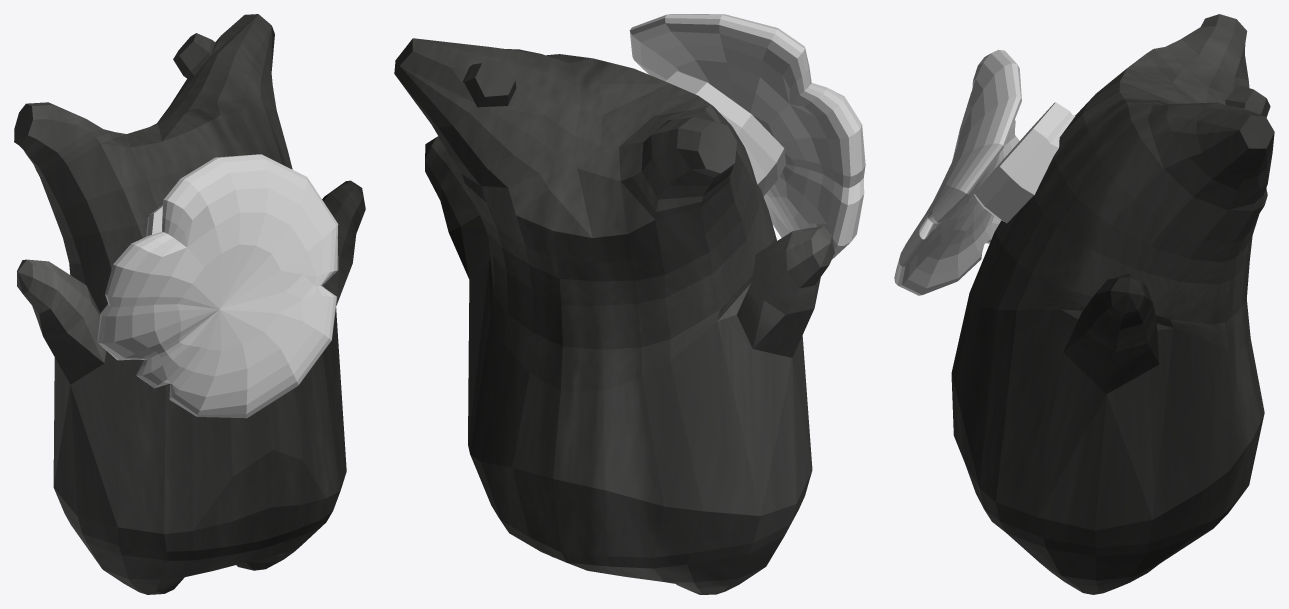
File: frame_0022.obj
3 views of the same model, side by side, from view 1: azimuth 30°, elevation 25°; view 2: azimuth 150°, elevation 25°; view 3: azimuth 270°, elevation 25° (orthographic). The views are drawn at different scales.
Parts seen in each view (by area): view 1: korok, leaf; view 2: korok, leaf, nose; view 3: korok, leaf, nose.
Boxes of the visible parts, x1,y1,x2,y2 form: korok: (14,14,365,594); leaf: (97,154,338,418); korok: (394,38,834,594); leaf: (629,14,865,259); nose: (665,71,785,196); korok: (951,14,1274,594); leaf: (894,49,1021,295); nose: (974,102,1075,222).
Bounding box in the file's own units: 1.57 × 2.1 × 1.4.
